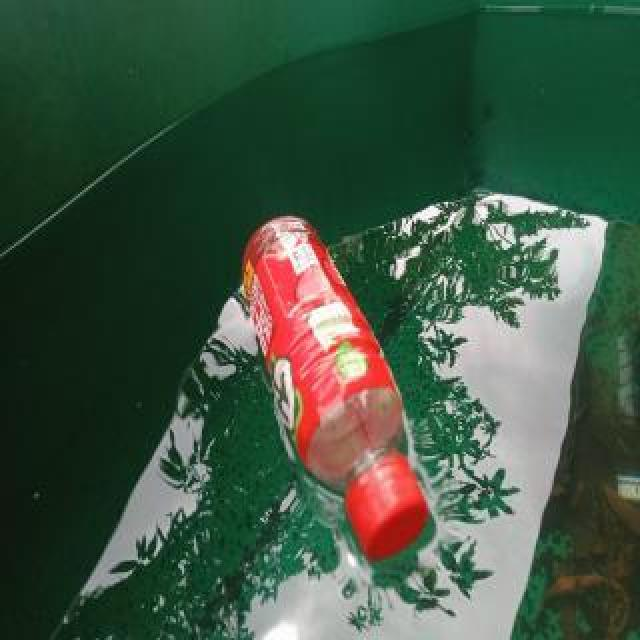bottle: (239, 211, 431, 563)
